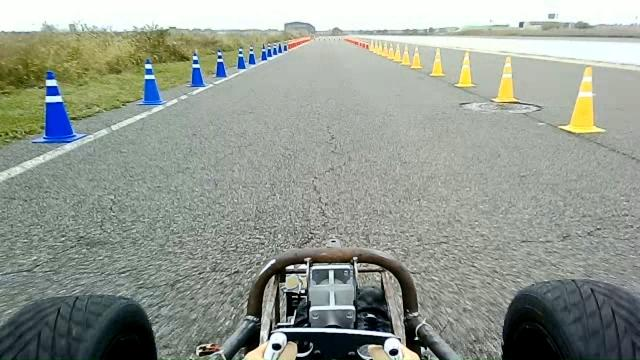blue cone: (31, 70, 88, 143), (136, 57, 166, 106), (186, 49, 207, 88), (214, 48, 228, 78), (236, 47, 246, 69), (248, 44, 256, 64), (260, 43, 268, 61), (266, 43, 273, 58), (272, 42, 278, 56), (277, 42, 283, 54), (283, 41, 288, 52)
yellow cone: (558, 65, 606, 134), (490, 55, 520, 103), (454, 50, 476, 88), (429, 47, 445, 76), (410, 46, 423, 69), (400, 44, 411, 66), (392, 43, 402, 62), (387, 42, 395, 60), (376, 40, 384, 55), (382, 42, 389, 57)
